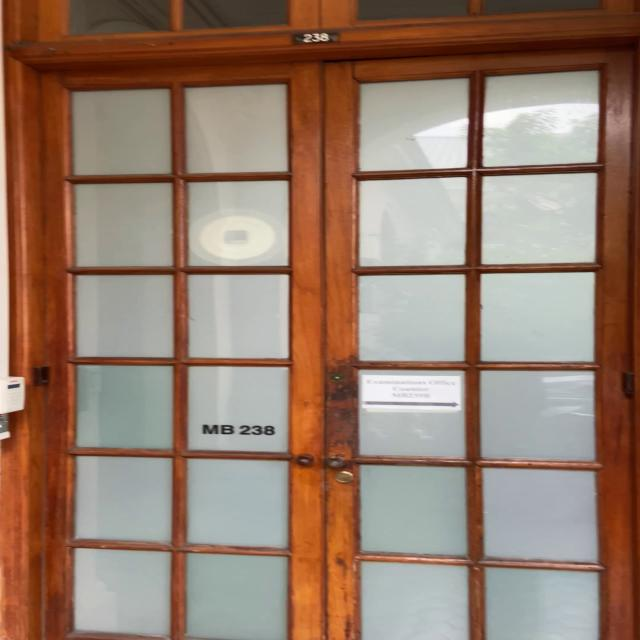room238: (295, 30, 340, 46)
